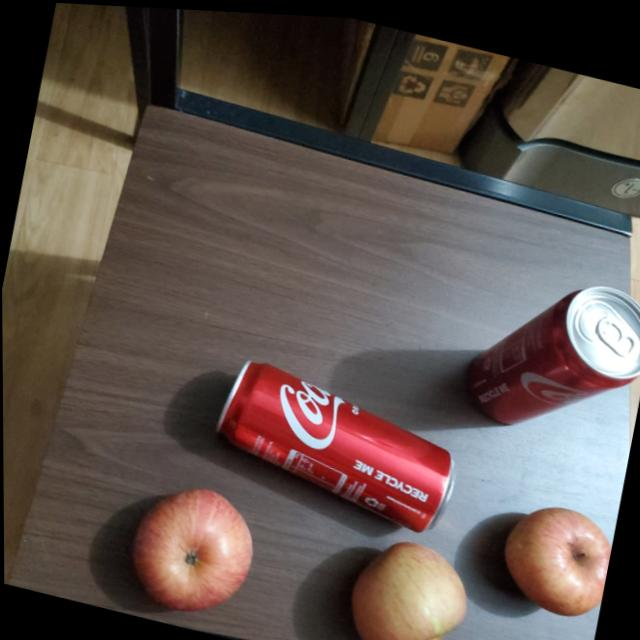apple: (120, 469, 265, 625), (335, 527, 477, 640), (493, 490, 616, 617)
coke: (203, 347, 465, 531), (462, 253, 640, 450)
